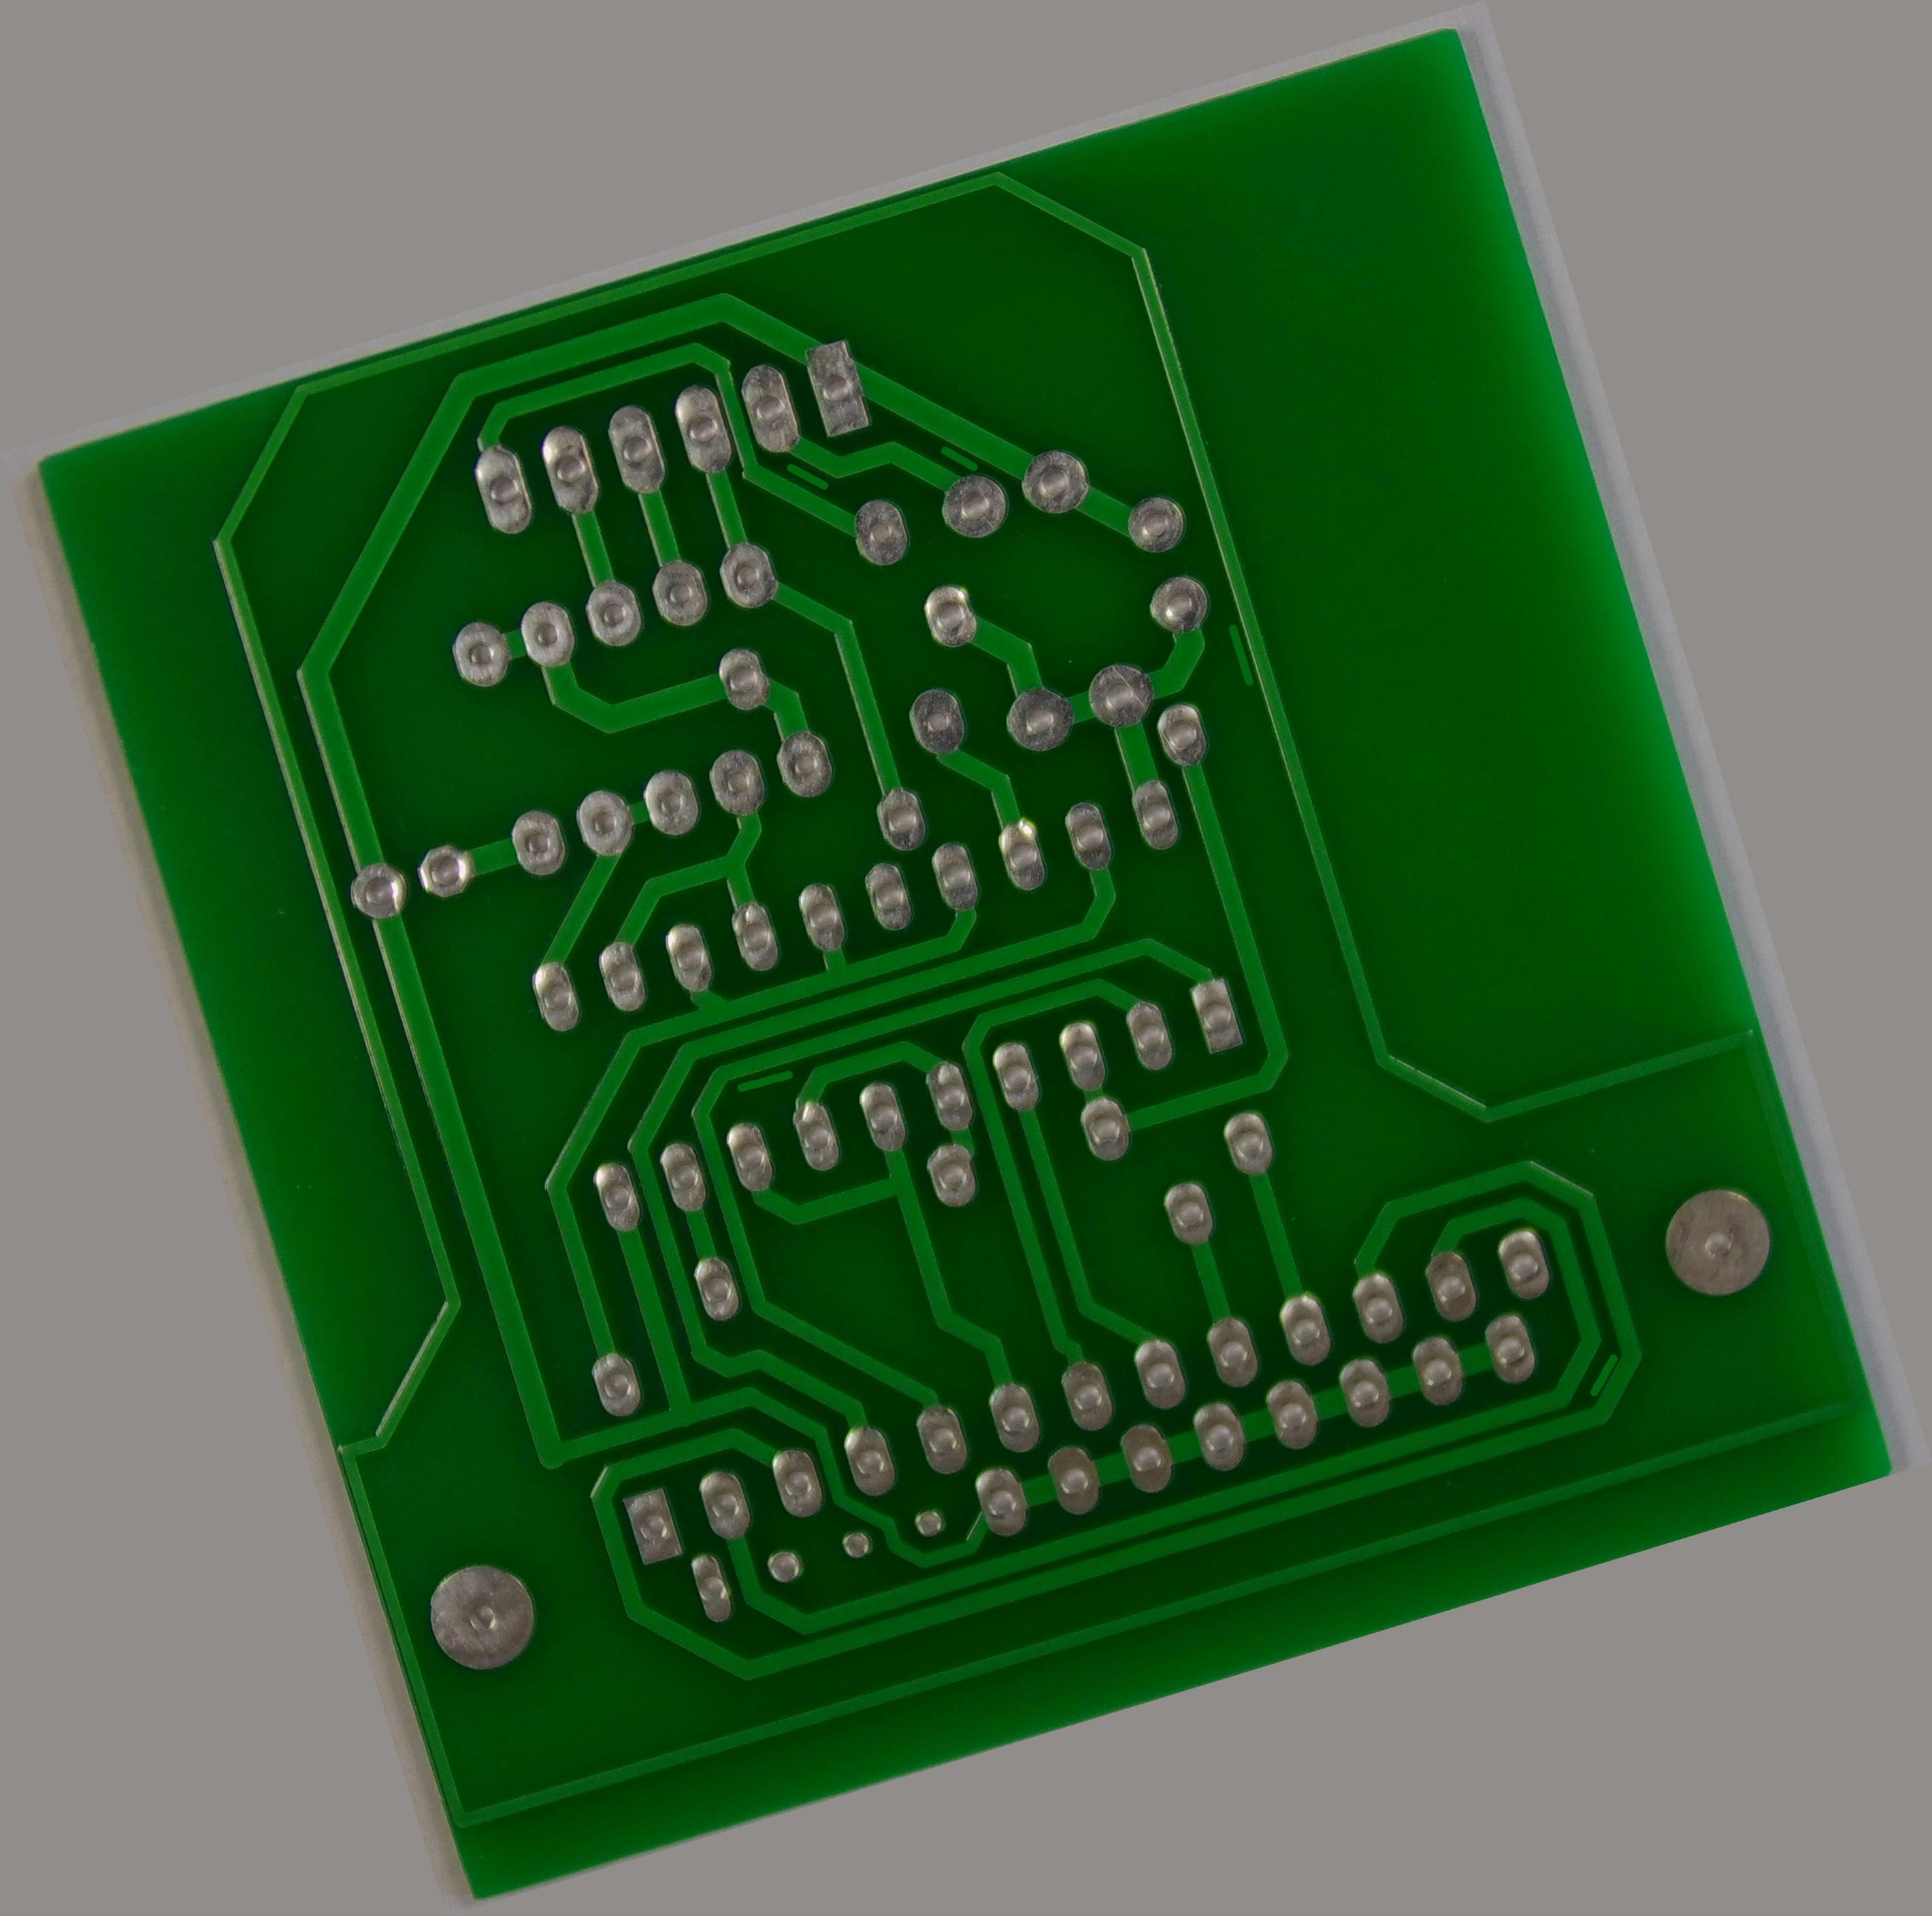spurious_copper: (1562, 1337, 1642, 1409), (1213, 611, 1269, 695), (725, 1053, 807, 1109), (776, 446, 835, 505), (928, 423, 984, 486)
